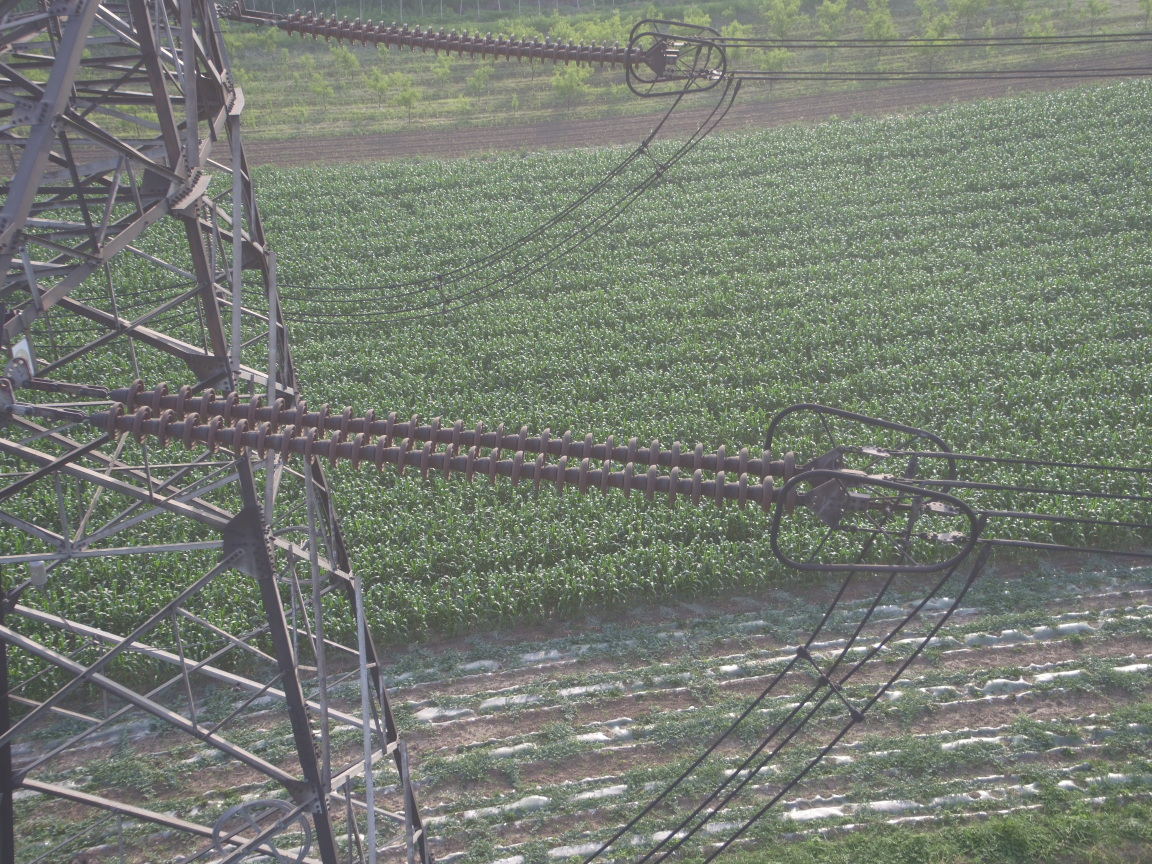insulator: (70, 377, 822, 518), (256, 3, 657, 72)
